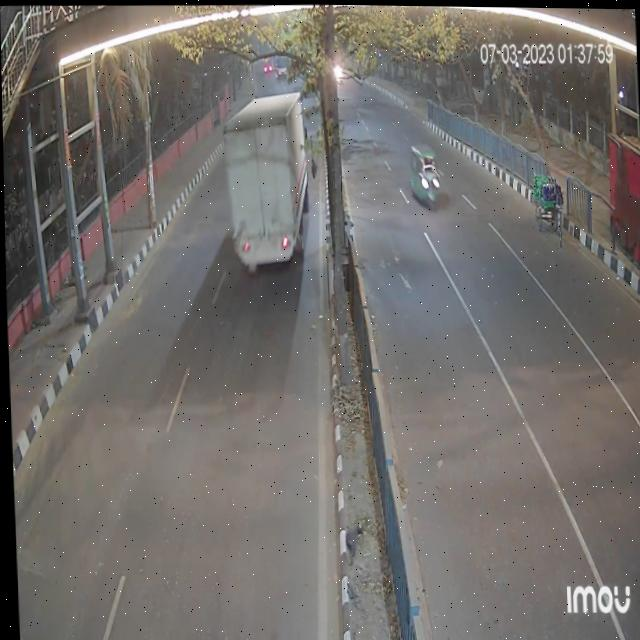cng: (406, 132, 441, 208)
